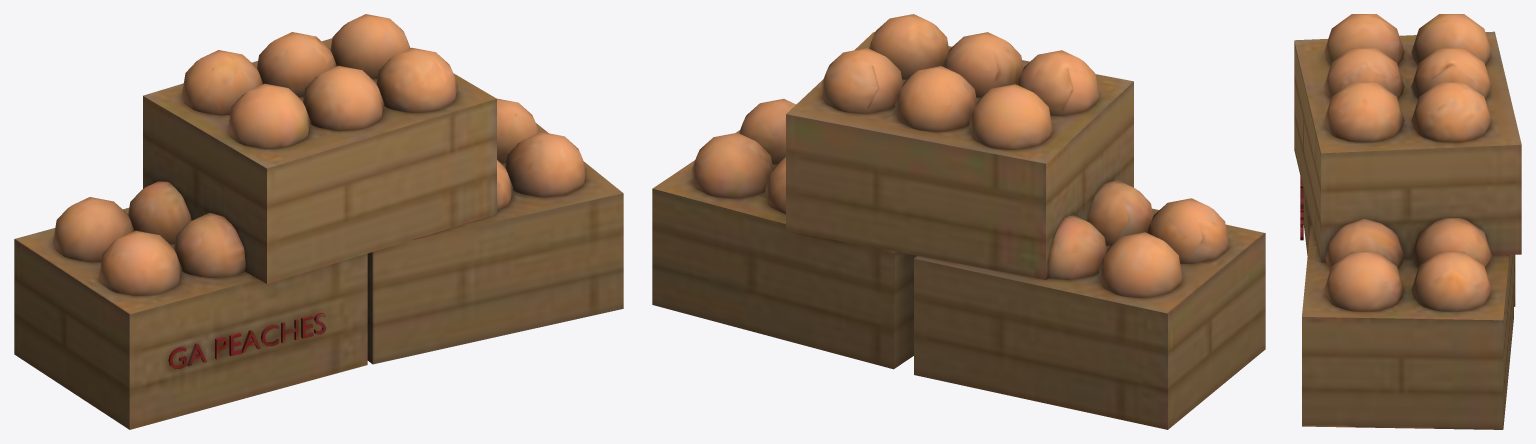
Rendered from cajas_melocoton.glb.
3 renders of one model, left to right at view 1: azimuth 30°, elevation 25°; view 2: azimuth 150°, elevation 25°; view 3: azimuth 270°, elevation 25°, orthographic. The views are drawn at different scales.
Parts seen in each view (by area): view 1: cajas_melocoton; view 2: cajas_melocoton; view 3: cajas_melocoton.
Boxes of the visible parts, x1,y1,x2,y2 form: cajas_melocoton: [14, 14, 623, 429]; cajas_melocoton: [652, 14, 1265, 429]; cajas_melocoton: [1294, 14, 1521, 429].
Bounding box in the file's own units: 1.67 × 0.86 × 0.6769.
Materials: 1 (1 with a texture image).
